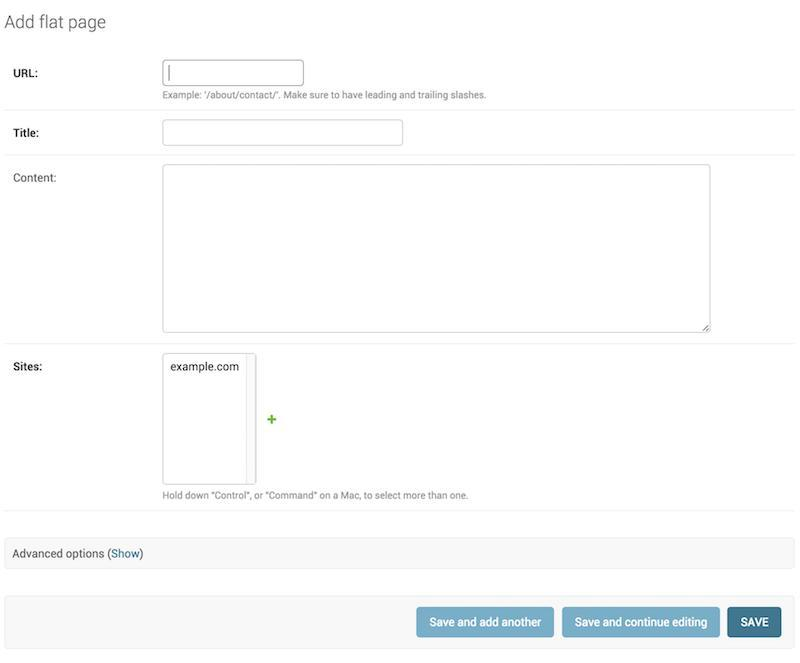button: (564, 606, 721, 639), (416, 607, 556, 640), (728, 608, 781, 636)
icon: (265, 412, 279, 427)
input: (165, 119, 403, 146), (162, 60, 306, 89)
label: (3, 13, 111, 39), (12, 169, 66, 191), (6, 66, 51, 86), (10, 126, 49, 147), (9, 357, 46, 372)
